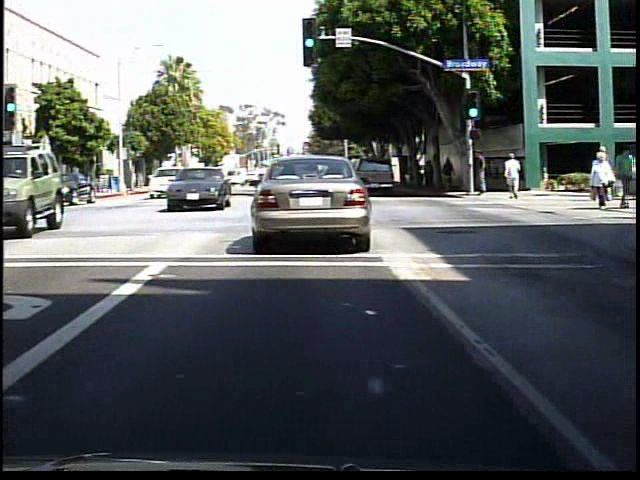person: (587, 150, 618, 209), (593, 143, 617, 206), (499, 150, 522, 202), (618, 146, 636, 211), (473, 147, 493, 203), (445, 156, 460, 192), (429, 158, 442, 192)
